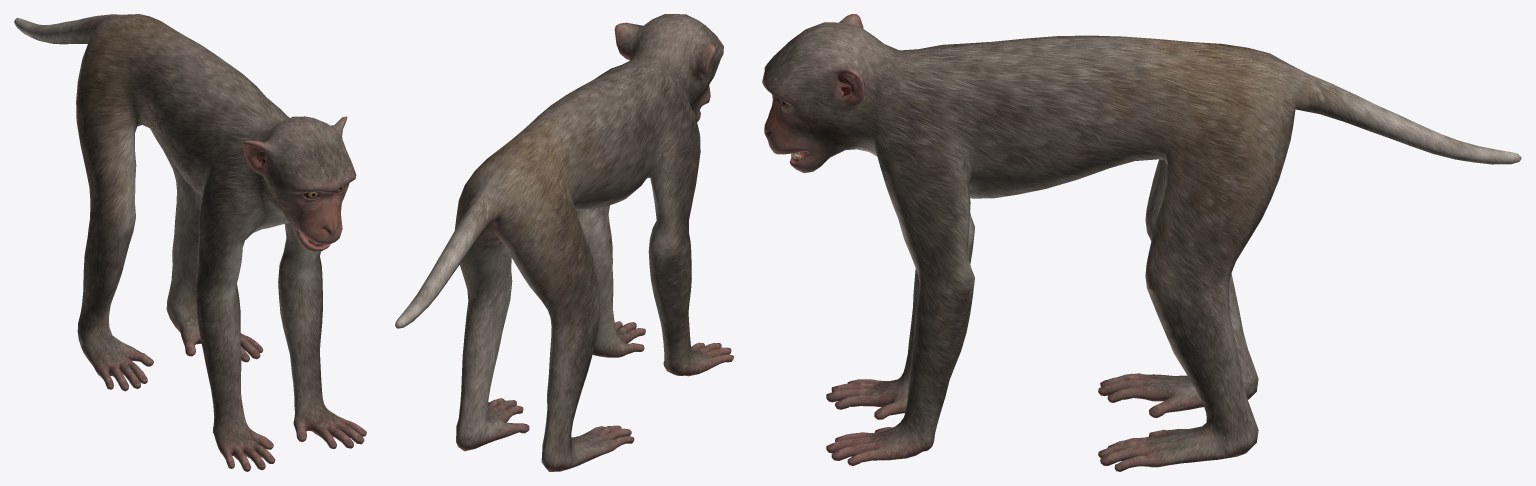
The model's file is monkey.gltf.
3 renders of one model, left to right at view 1: azimuth 30°, elevation 25°; view 2: azimuth 150°, elevation 25°; view 3: azimuth 270°, elevation 25°, orthographic. The views are drawn at different scales.
Parts seen in each view (by area): view 1: Body; view 2: Body; view 3: Body.
Boxes of the visible parts, x1,y1,x2,y2 form: Body: [14, 14, 366, 471]; Body: [395, 14, 733, 471]; Body: [762, 14, 1521, 471].
Bounding box in the file's own units: 1.72 × 3.56 × 6.09.
1 material, 1 textured.
